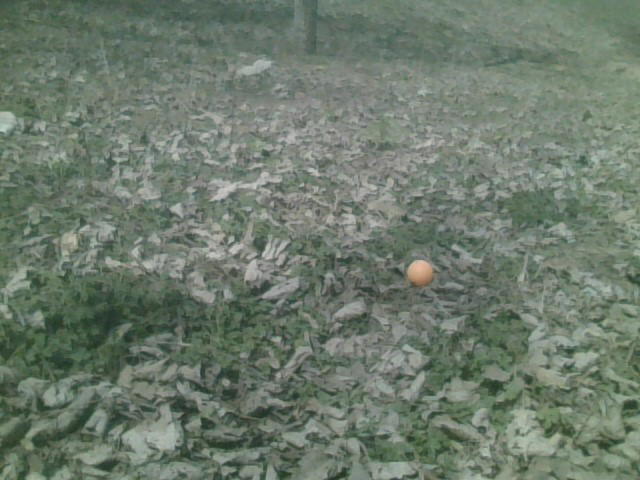ball: (407, 258, 433, 287)
